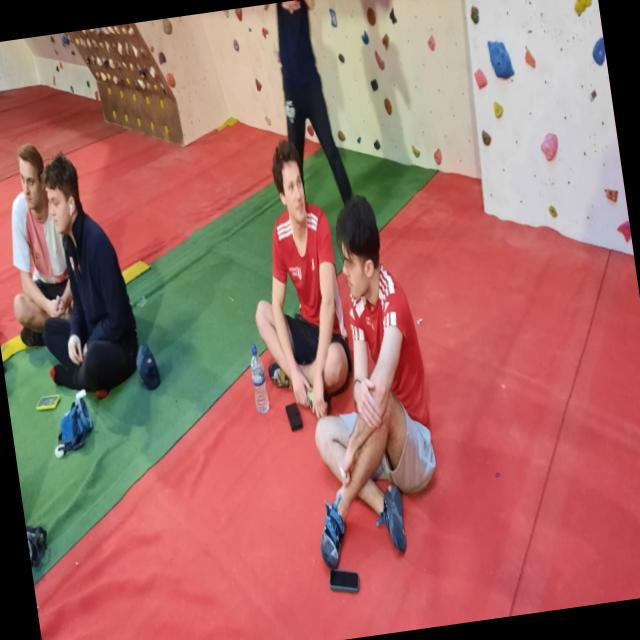Crimp: (587, 34, 608, 72), (567, 0, 600, 21), (520, 45, 538, 74), (472, 65, 491, 92)
Sloper: (483, 34, 519, 88), (536, 130, 562, 168), (613, 217, 633, 248)
